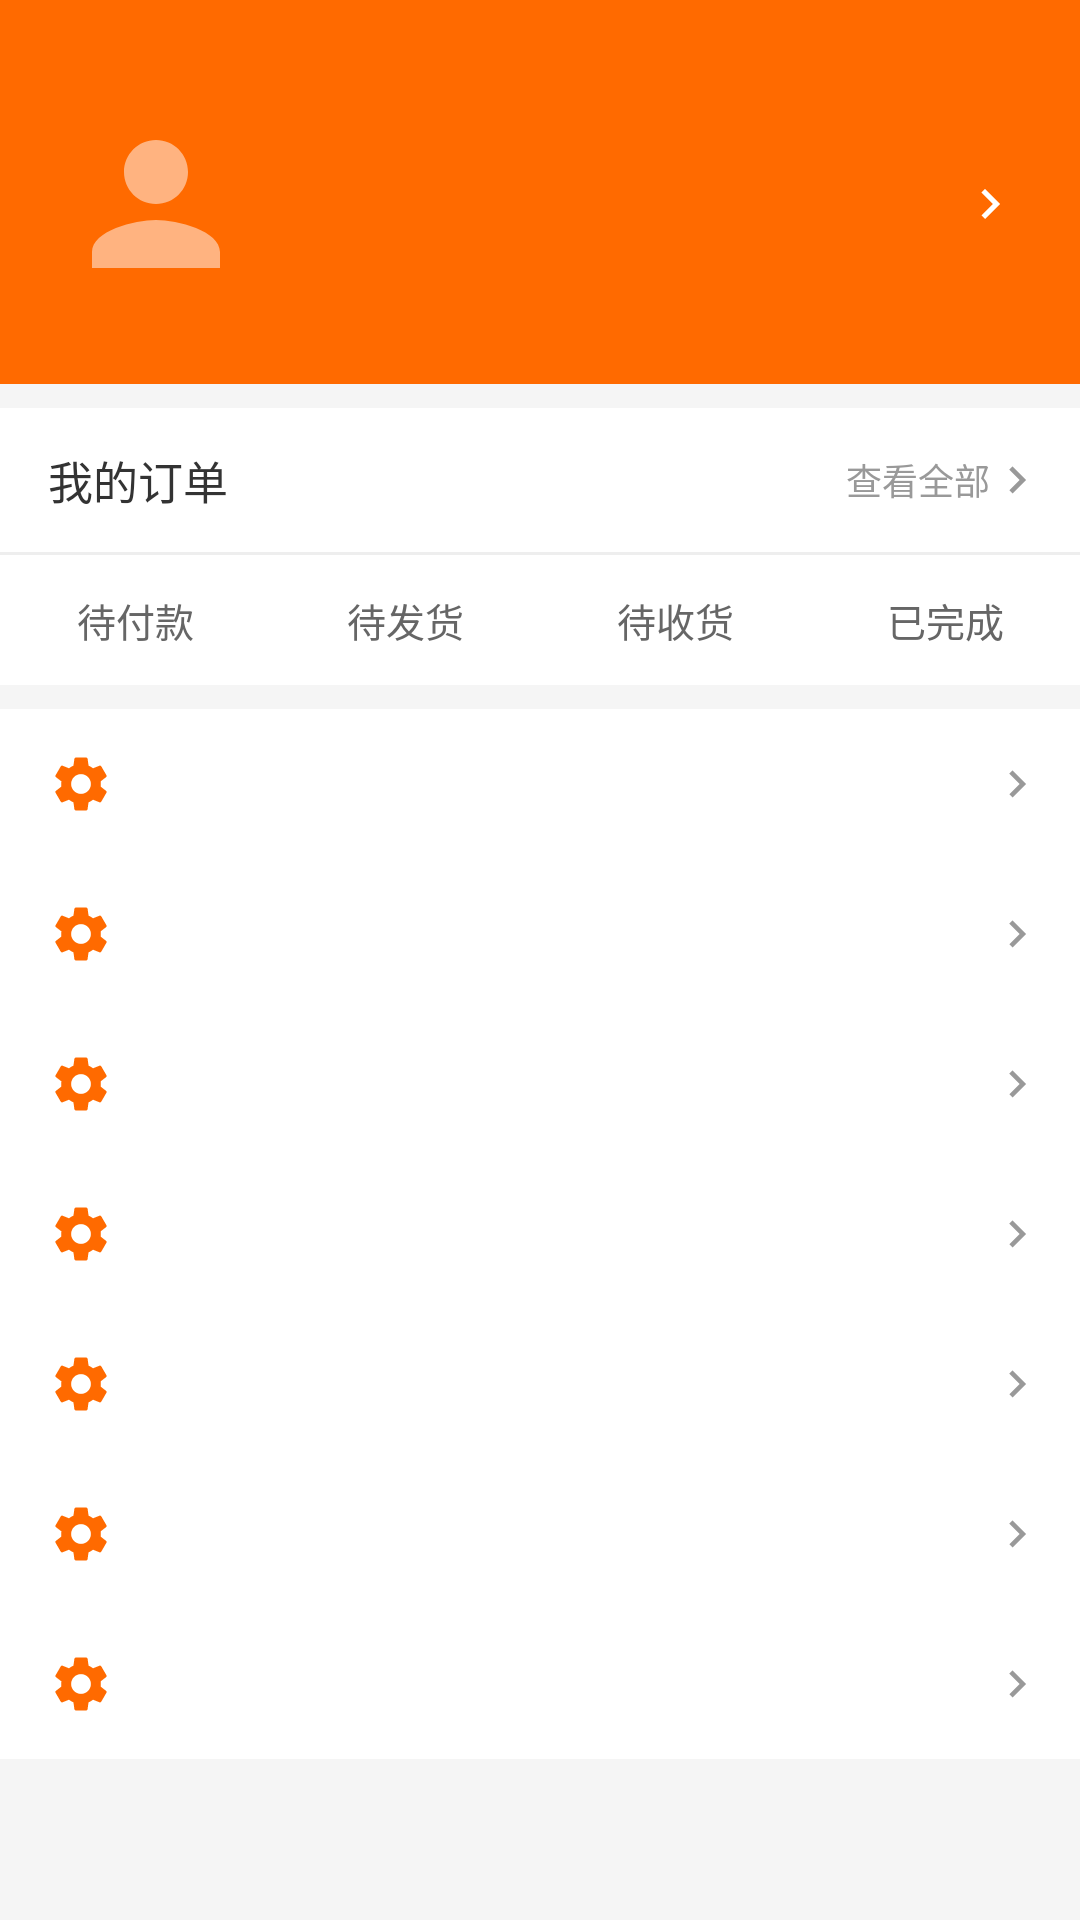

Icons on this 1080*1920 Android screen, each with the point to tap as (x=x, y=y):
更多: (x=1017, y=480)
